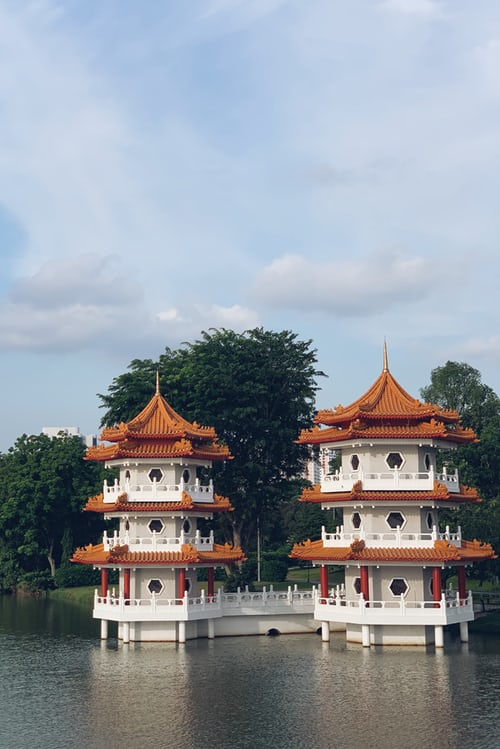Temple: (288, 358, 491, 657), (73, 379, 244, 617)
